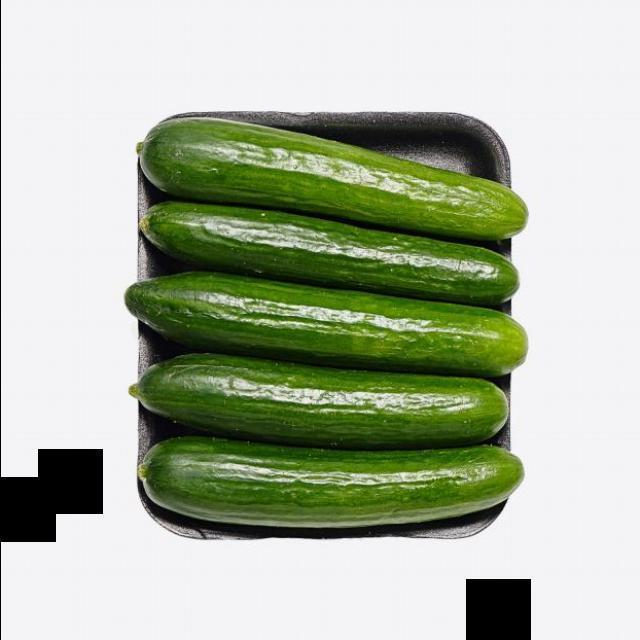cucumber: (119, 116, 529, 230), (122, 276, 528, 370), (132, 202, 520, 298), (138, 444, 524, 531), (132, 372, 509, 440)
